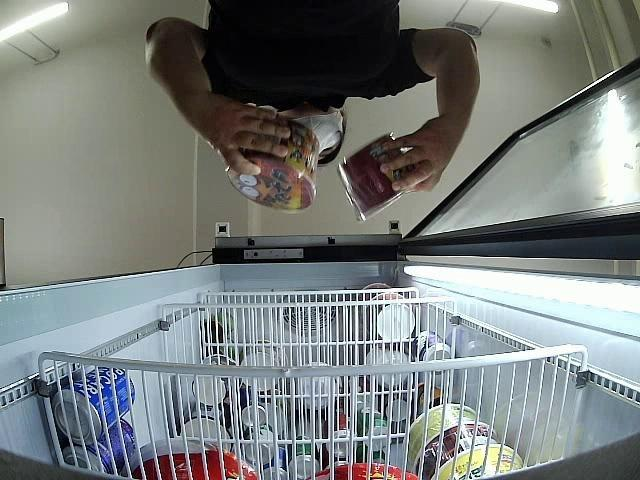05_nuguri_L: (228, 115, 319, 210), (338, 133, 422, 220)
